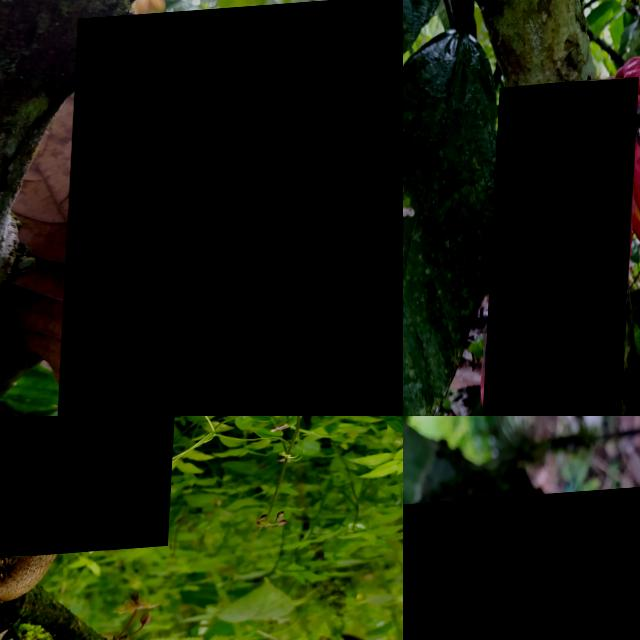Fitoftora: (0, 416, 188, 565)
Monilia: (61, 0, 403, 416), (483, 81, 640, 416), (403, 481, 640, 640)
